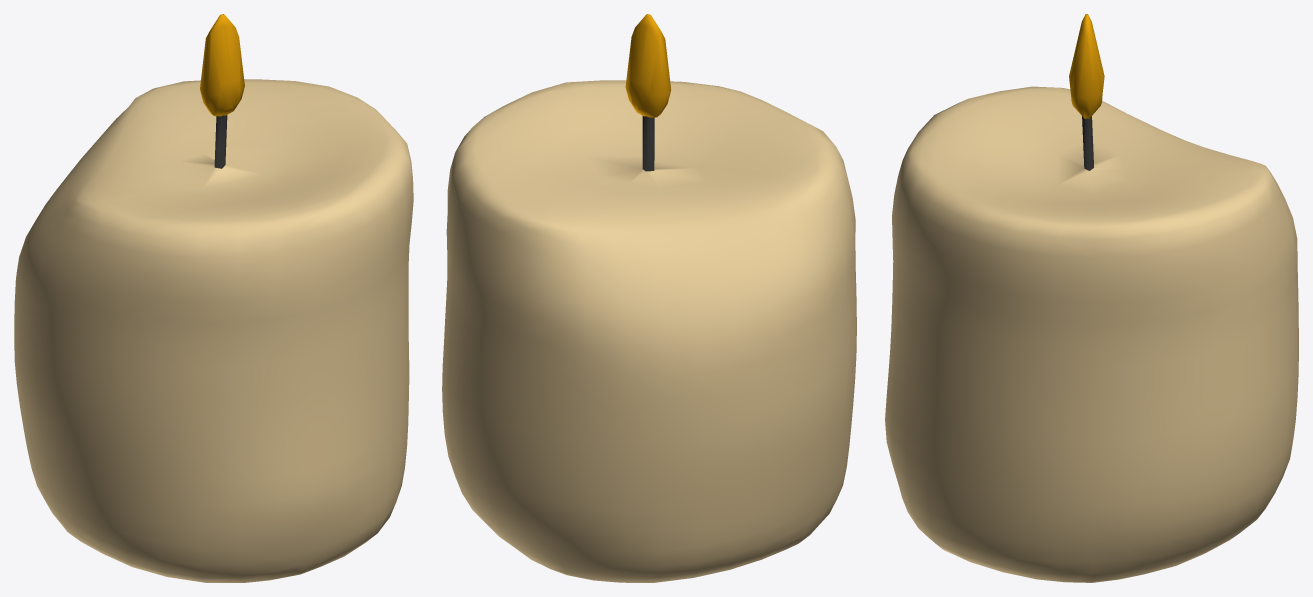
File: Candle.fbx
3 views of the same model, side by side, from view 1: azimuth 30°, elevation 25°; view 2: azimuth 150°, elevation 25°; view 3: azimuth 270°, elevation 25° (orthographic).
Parts seen in each view (by area): view 1: Candle; view 2: Candle; view 3: Candle.
Part boxes in pixels (bbox=[...]): Candle: bbox=[14, 14, 413, 582]; Candle: bbox=[442, 14, 856, 582]; Candle: bbox=[885, 14, 1298, 582].
Size of the model in its own units: 20.5 by 27.98 by 20.73.
